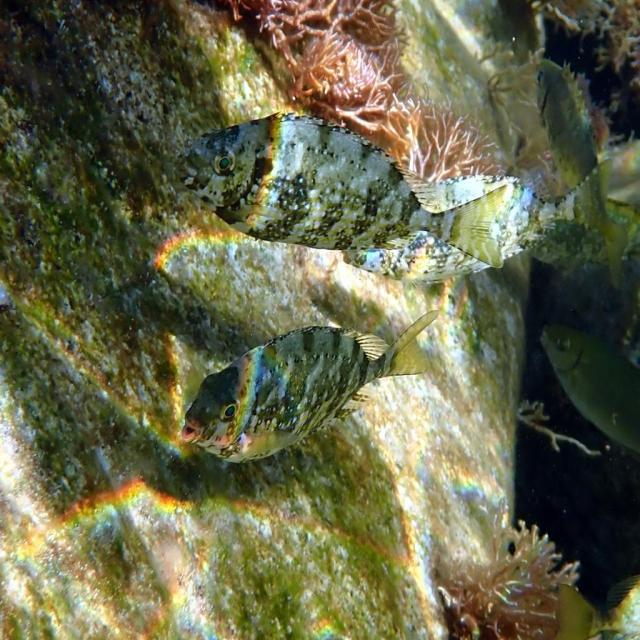Sokar Baligi: (170, 88, 528, 302), (169, 299, 469, 473)
